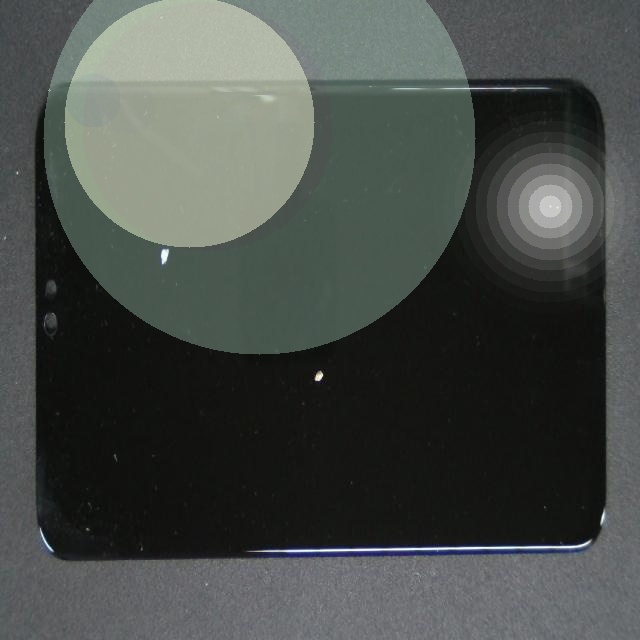stain: (179, 172, 486, 531), (103, 102, 252, 341)
